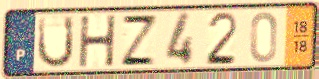0: (249, 10, 279, 65)
2: (205, 10, 239, 67)
4: (164, 10, 196, 69)
H: (78, 13, 119, 70)
U: (35, 14, 76, 70)
Z: (118, 13, 161, 67)
